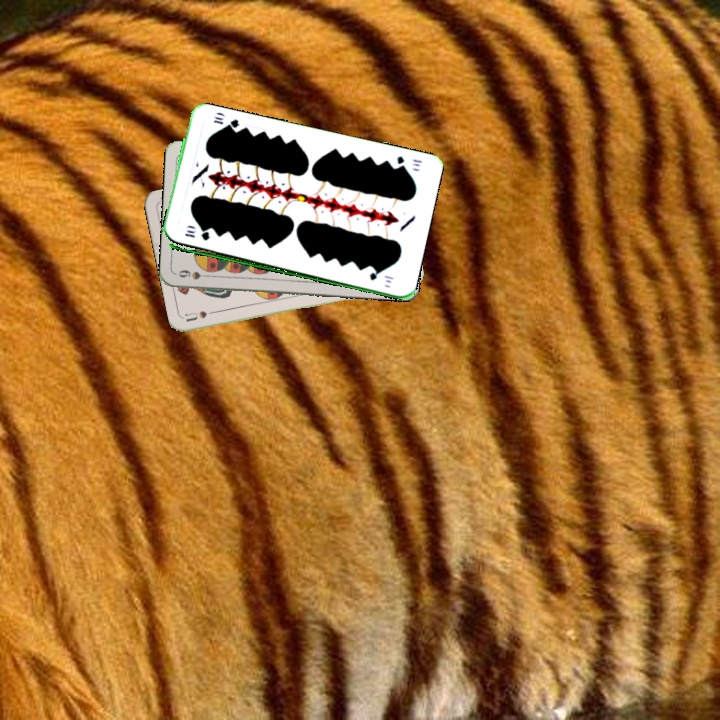G10: (393, 152, 424, 172), (181, 229, 213, 243)
S9: (174, 266, 214, 282)
SU: (182, 306, 223, 324)
